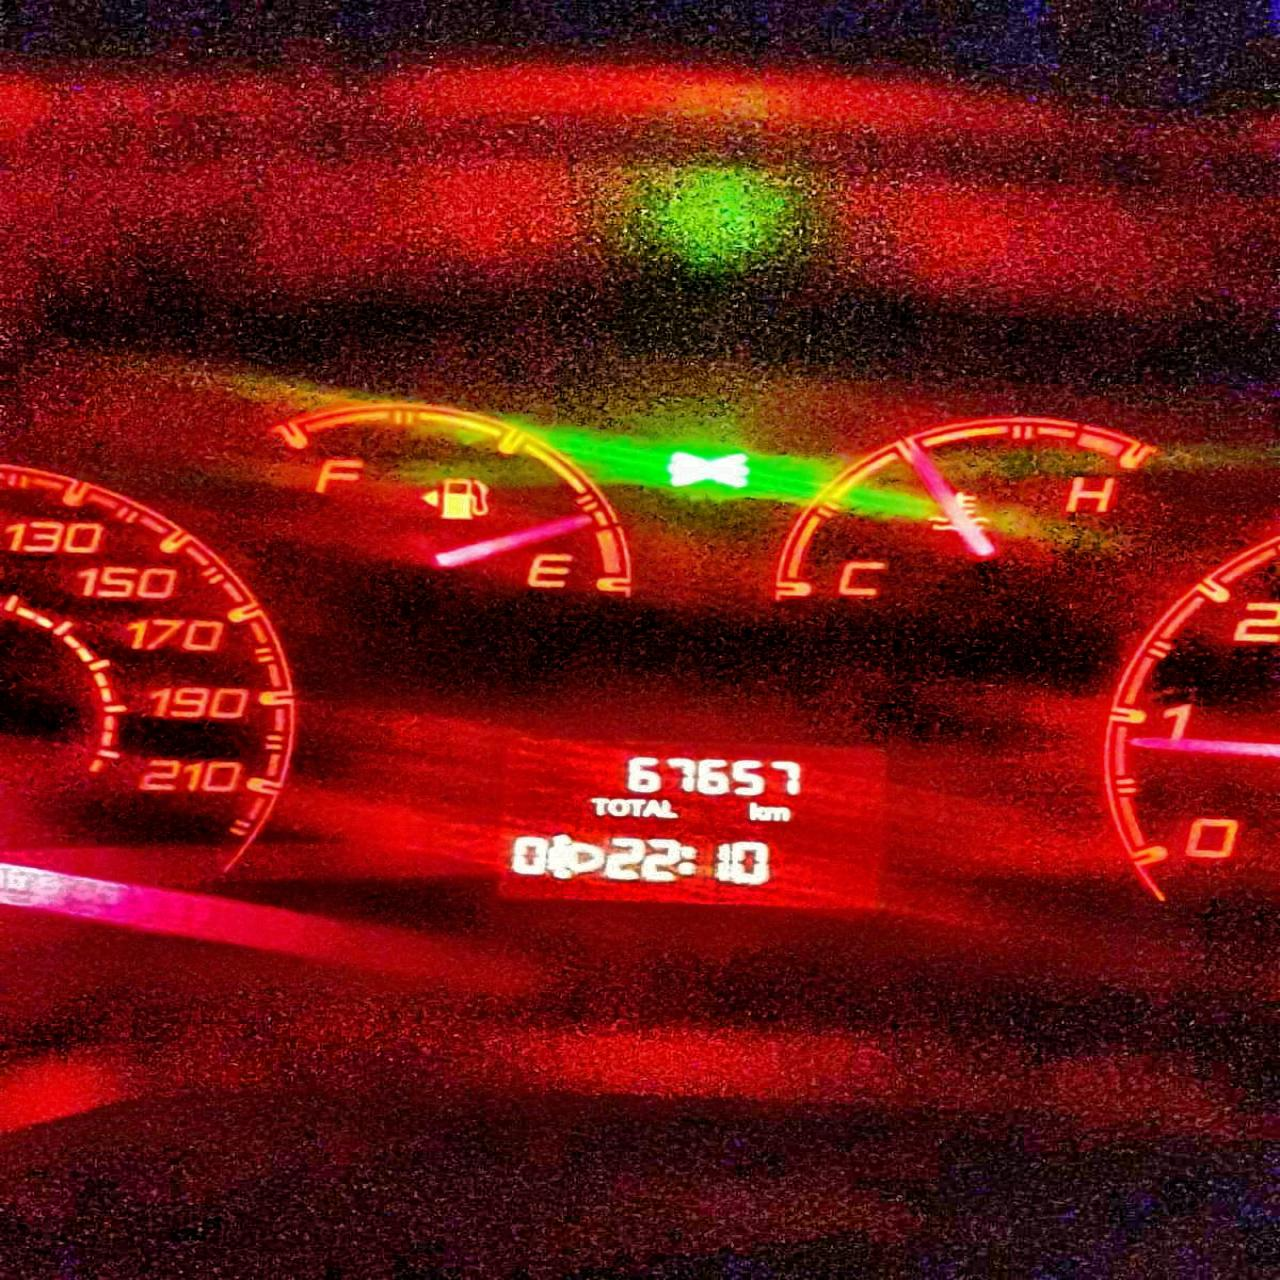0: (730, 838, 771, 885), (510, 833, 547, 876)
1: (714, 840, 733, 884)
2: (605, 836, 642, 883), (642, 836, 679, 883)
5: (730, 757, 764, 797)
6: (696, 755, 730, 797), (626, 754, 663, 791)
7: (770, 760, 804, 795), (665, 756, 696, 794)
X: (680, 844, 699, 874), (763, 804, 792, 822), (659, 798, 680, 819), (590, 796, 610, 816), (608, 797, 627, 818), (747, 802, 764, 823), (626, 797, 644, 817), (644, 797, 660, 817)
odometer: (495, 729, 901, 914)
